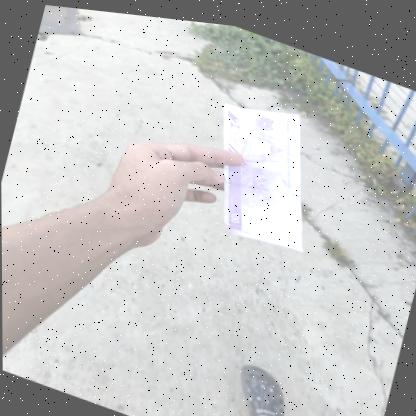one_hundred-back-vef: (192, 80, 335, 257)
